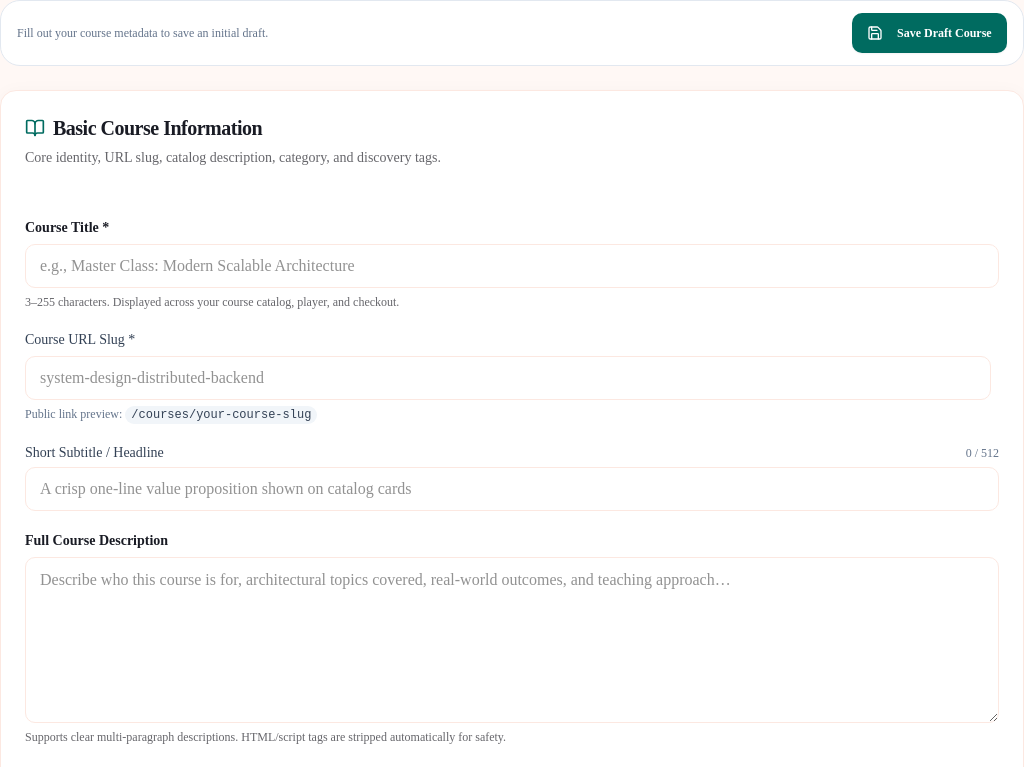
Test: Phase 1: CourseMetadataForm Component › updates headline character counter accurately
Type "Production systems" into the field labelled "Short Subtitle / Headline" at (512, 489), box left=25, top=467, right=999, bottom=511
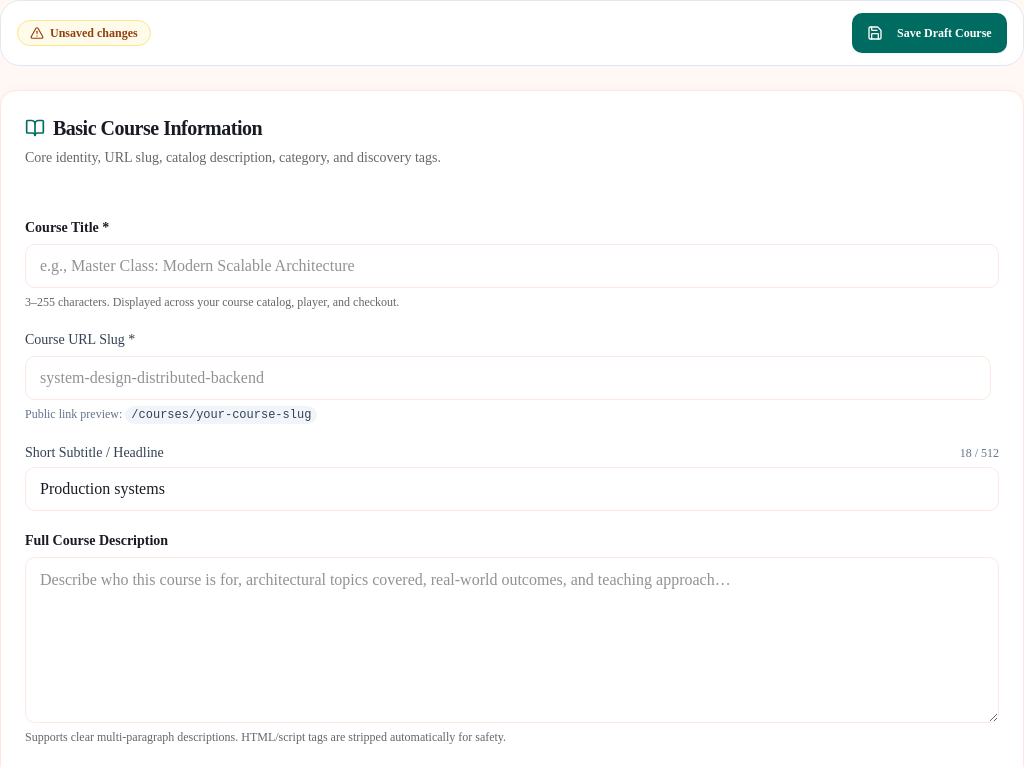
Expected: the text "18 / 512" is shown, left=960, top=445, right=999, bottom=461
